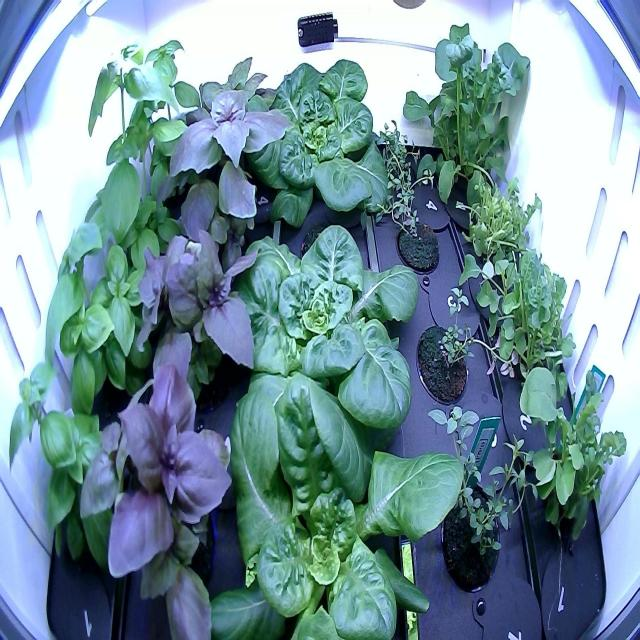young: (180, 376, 469, 640), (209, 216, 422, 471), (230, 46, 396, 242)
